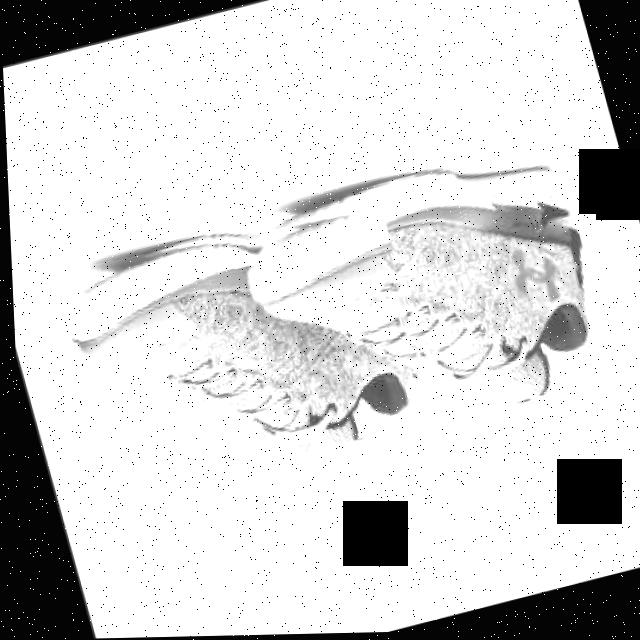shoe: (229, 141, 618, 459), (48, 189, 439, 502)
